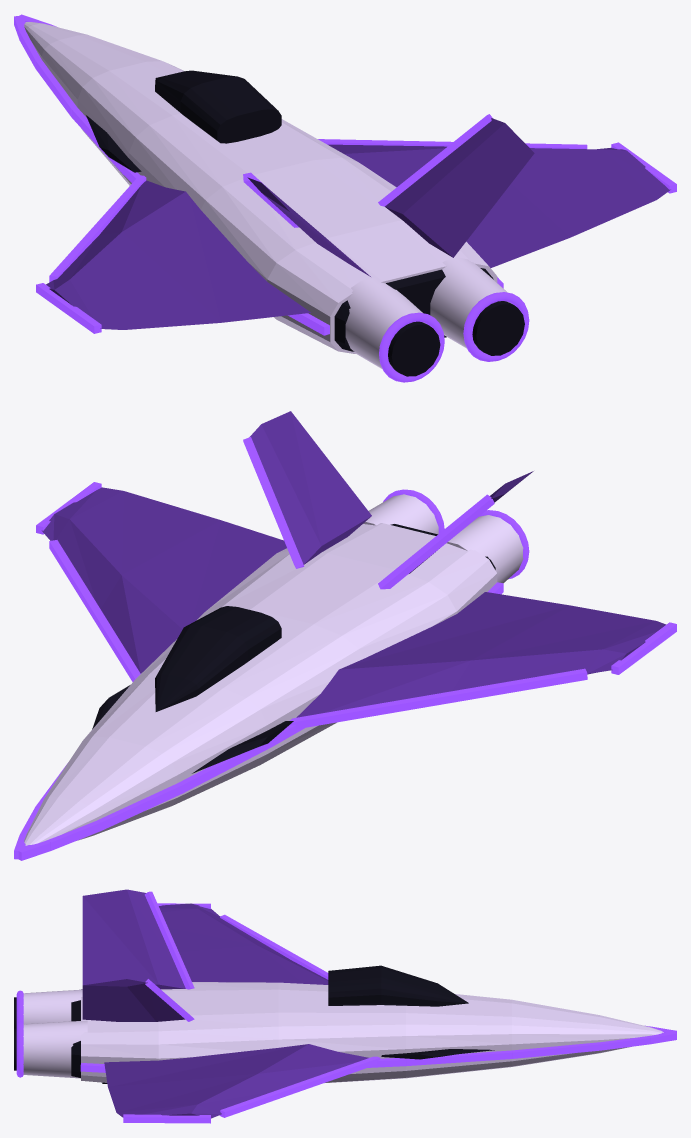
The model's file is player_voidfire.glb.
The picture shows the model from 3 angles, top to bottom: view 1: azimuth 30°, elevation 25°; view 2: azimuth 150°, elevation 25°; view 3: azimuth 270°, elevation 25°; orthographic projection. The views are drawn at different scales.
Parts seen in each view (by area): view 1: fuselage, wing_port, wing_starboard, tail_fin_starboard, canopy_recess, nozzle_housing_port, nozzle_housing_starboard, nozzle_throat_port, nozzle_throat_starboard, aft_plate, nozzle_trim_port, nozzle_trim_starboard (+7 smaller); view 2: fuselage, wing_starboard, wing_port, tail_fin_starboard, canopy_recess, wing_edge_trim_port, nozzle_housing_port, wing_edge_trim_starboard, nozzle_housing_starboard, tail_fin_trim_port, tail_fin_trim_starboard, hull_trim_port_3 (+3 smaller); view 3: fuselage, wing_starboard, tail_fin_port, wing_port, canopy_recess, tail_fin_starboard, nozzle_housing_starboard, nozzle_housing_port, wing_edge_trim_starboard, tail_fin_trim_port, hull_trim_starboard_4, wing_edge_trim_port (+7 smaller).
Part boxes in pixels (<box>): fuselage: <box>24,22,497,353</box>; wing_port: <box>46,180,310,329</box>; wing_starboard: <box>328,144,670,267</box>; tail_fin_starboard: <box>385,118,534,257</box>; canopy_recess: <box>155,70,281,143</box>; nozzle_housing_port: <box>345,278,425,368</box>; nozzle_housing_starboard: <box>430,257,511,348</box>; nozzle_throat_port: <box>388,321,440,376</box>; nozzle_throat_starboard: <box>472,301,524,355</box>; aft_plate: <box>334,268,493,351</box>; nozzle_trim_port: <box>379,312,444,382</box>; nozzle_trim_starboard: <box>463,292,529,361</box>; fuselage: <box>24,523,497,845</box>; wing_starboard: <box>41,487,286,673</box>; wing_port: <box>296,592,666,717</box>; tail_fin_starboard: <box>250,411,371,564</box>; canopy_recess: <box>155,606,281,711</box>; wing_edge_trim_port: <box>289,668,587,729</box>; nozzle_housing_port: <box>446,515,523,583</box>; wing_edge_trim_starboard: <box>49,540,140,681</box>; nozzle_housing_starboard: <box>363,494,438,534</box>; tail_fin_trim_port: <box>378,494,494,589</box>; tail_fin_trim_starboard: <box>243,437,304,568</box>; hull_trim_port_3: <box>97,783,182,830</box>; fuselage: <box>81,982,663,1083</box>; wing_starboard: <box>104,1044,368,1118</box>; tail_fin_port: <box>82,889,185,989</box>; wing_port: <box>159,903,328,984</box>; canopy_recess: <box>328,965,468,1006</box>; tail_fin_starboard: <box>82,979,185,1021</box>; nozzle_housing_starboard: <box>23,1020,87,1078</box>; nozzle_housing_port: <box>23,989,82,1024</box>; wing_edge_trim_starboard: <box>219,1056,380,1117</box>; tail_fin_trim_port: <box>144,891,194,989</box>; hull_trim_starboard_4: <box>406,1050,512,1065</box>; wing_edge_trim_port: <box>220,914,328,979</box>.
Size of the model in its own units: 7.17 by 2.19 by 9.39.
